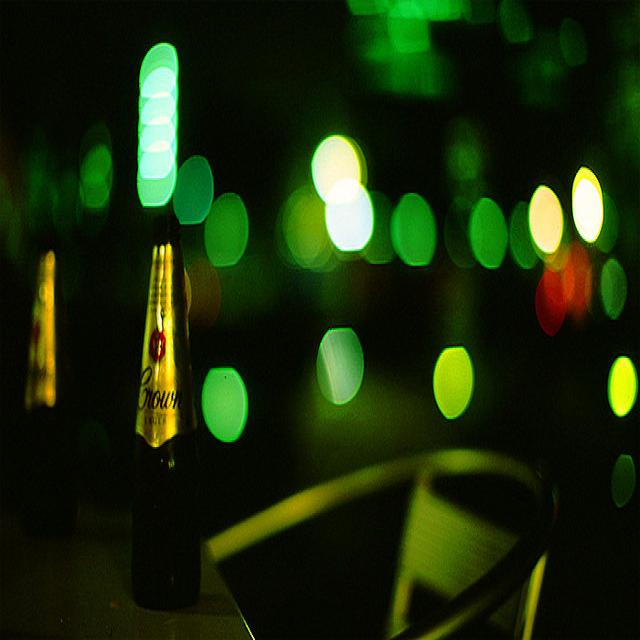Bottle: (134, 198, 203, 604), (28, 225, 74, 550)
chair: (221, 377, 573, 640)
